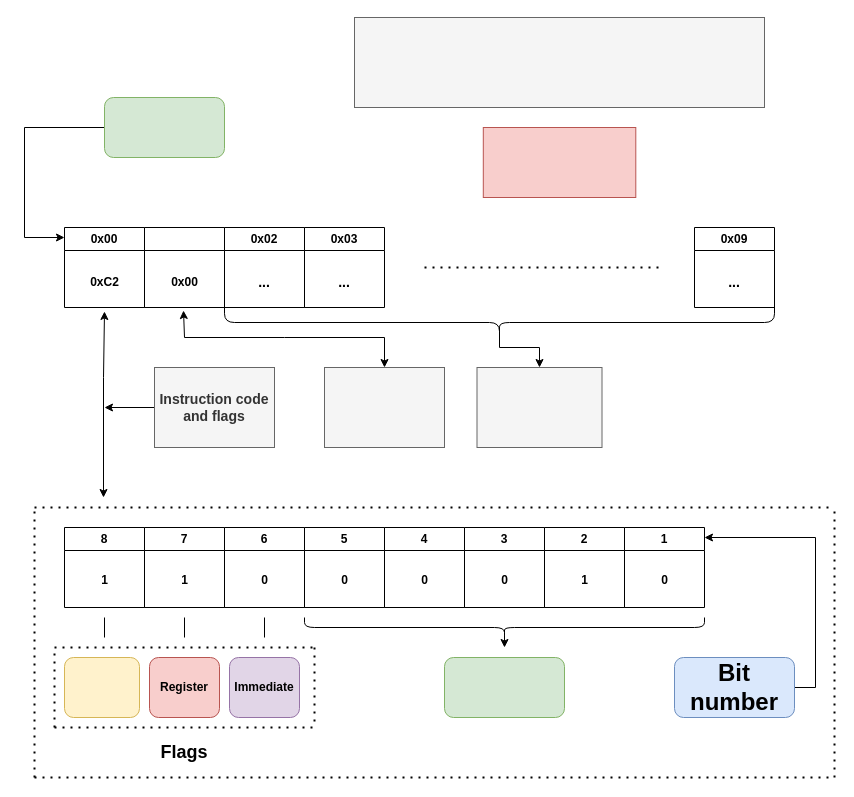
Some shapes in this 854 by 797 pixel diagram are drawn without their labels. Here are the shapes that lost their labels. From the top down, the box of each, then its label:
(354, 16, 764, 108): Binary code diagram
(104, 96, 224, 158): Address
(482, 126, 636, 198): Example: pop [rax]
(144, 226, 224, 308): 0x01
(324, 366, 444, 448): Register number
(476, 366, 602, 448): Argument value
(64, 656, 140, 718): RAM
(444, 656, 564, 718): Instruction
